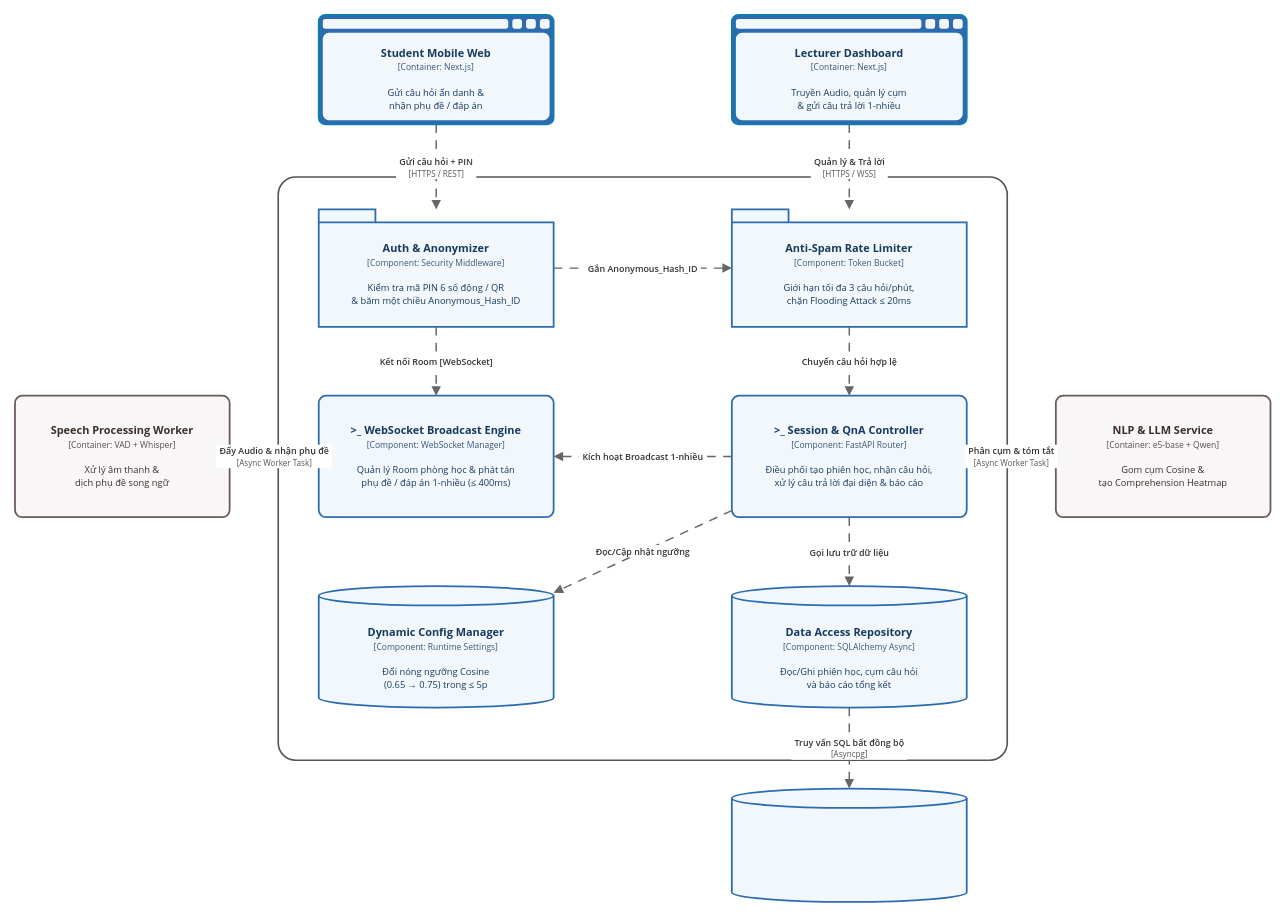
Some shapes in this 1285 by 917 pixel diagram are drawn without their labels. The box of each missing label's shape, as (x1, y1, x2, y2) in pixels:
Backend API & WebSocket Server [Container: FastAPI]: (277, 176, 1008, 761)
Primary Database [Container: PostgreSQL] Lưu trữ dữ liệu bền vững: (731, 787, 967, 902)
